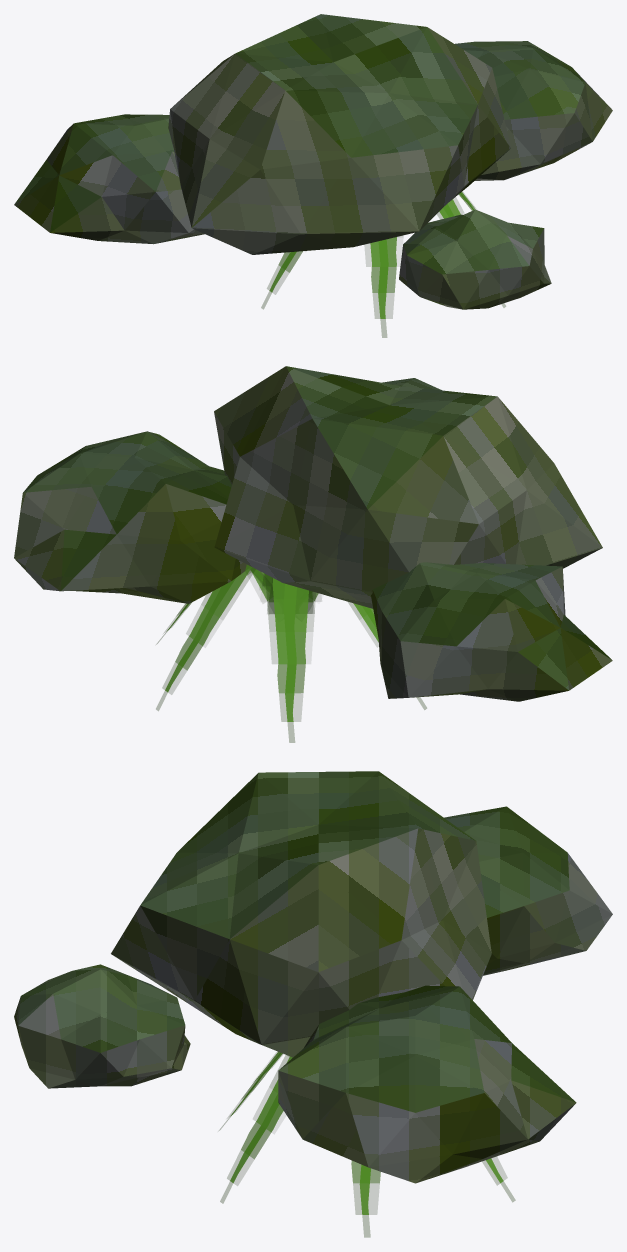
Rendered from boulder_cluster.glb.
3 renders of one model, top to bottom at view 1: azimuth 30°, elevation 25°; view 2: azimuth 150°, elevation 25°; view 3: azimuth 270°, elevation 25°, orthographic. The views are drawn at different scales.
Parts seen in each view (by area): view 1: boulder_cluster_Stone_Rock, boulder_cluster_Stone_Moss, boulder_cluster_Fern_Frond; view 2: boulder_cluster_Stone_Rock, boulder_cluster_Stone_Moss, boulder_cluster_Fern_Frond; view 3: boulder_cluster_Stone_Rock, boulder_cluster_Stone_Moss, boulder_cluster_Fern_Frond.
Part boxes in pixels (bbox=[...]): boulder_cluster_Stone_Rock: bbox=[14, 27, 612, 309]; boulder_cluster_Stone_Moss: bbox=[14, 14, 585, 274]; boulder_cluster_Fern_Frond: bbox=[261, 191, 505, 337]; boulder_cluster_Stone_Rock: bbox=[14, 366, 612, 701]; boulder_cluster_Stone_Moss: bbox=[23, 366, 611, 690]; boulder_cluster_Fern_Frond: bbox=[156, 564, 426, 742]; boulder_cluster_Stone_Rock: bbox=[14, 828, 612, 1183]; boulder_cluster_Stone_Moss: bbox=[18, 771, 575, 1112]; boulder_cluster_Fern_Frond: bbox=[219, 1051, 515, 1237].
Bounding box in the file's own units: 3.13 × 1.44 × 2.47.
Materials: 3 (3 with a texture image).
